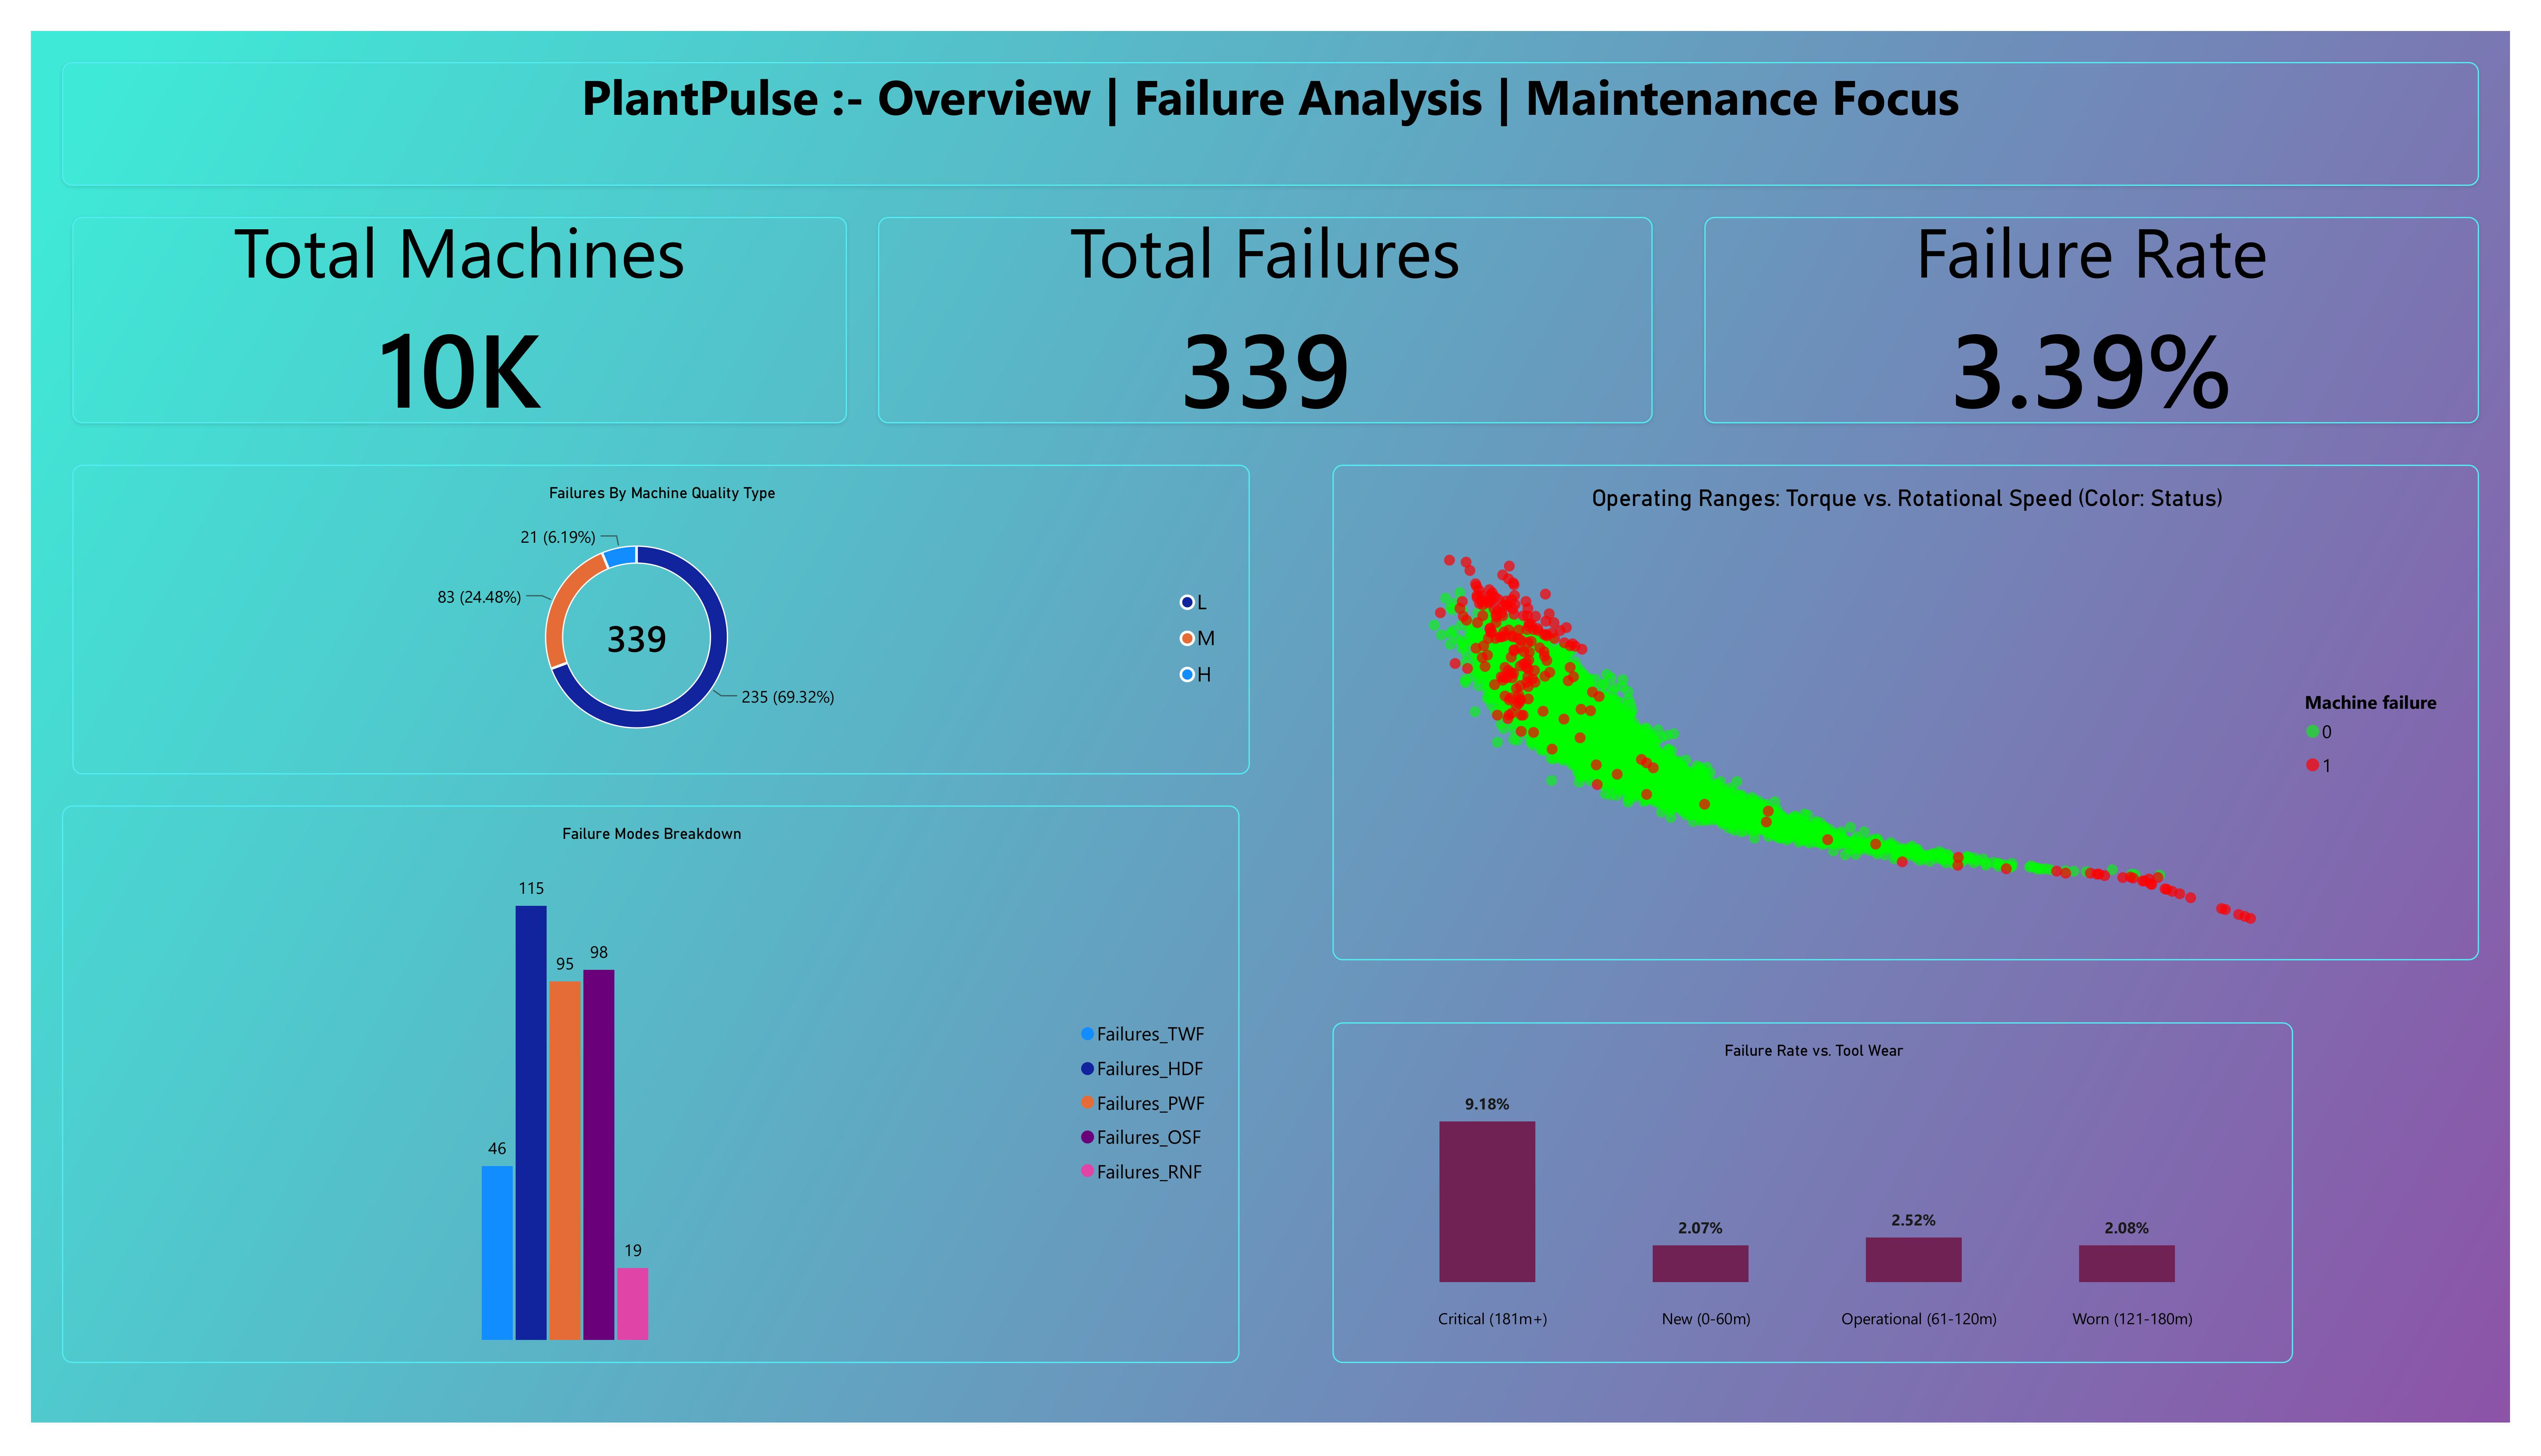

The dashboard page shown, as its layout file describes it:
{"tool":"powerbi","page":{"name":"Page 1","canvas":[1920,1080],"ordinal":0},"visuals":[{"type":"textbox","box":[24,24,1872,96],"z":0},{"type":"cardVisual","fields":{"Data":["_Measures.Total Machines"]},"box":[32,144,600,160],"z":1000},{"type":"cardVisual","fields":{"Data":["_Measures.Total Failures"]},"box":[656,144,600,160],"z":2000},{"type":"cardVisual","fields":{"Data":["_Measures.Failure Rate %"]},"box":[1296,144,600,160],"z":3000},{"type":"donutChart","title":"Failures By Machine Quality Type","fields":{"Category":["plantpulse_processed.Type"],"Y":["_Measures.Total Failures"]},"box":[32,336,912,240],"z":4000},{"type":"clusteredColumnChart","title":"Failure Modes Breakdown","fields":{"Y":["_Measures.Failures_TWF","_Measures.Failures_HDF","_Measures.Failures_PWF","_Measures.Failures_OSF","_Measures.Failures_RNF"]},"box":[24,600,912,432],"z":5000},{"type":"scatterChart","title":"Operating Ranges: Torque vs. Rotational Speed (Color: Status)","fields":{"Series":["plantpulse_processed.Machine failure"],"X":["plantpulse_processed.Rotational speed [rpm]"],"Y":["plantpulse_processed.Torque [Nm]"]},"box":[1008,336,888,384],"z":6000},{"type":"clusteredColumnChart","title":"Failure Rate vs. Tool Wear","fields":{"Category":["plantpulse_processed.Tool_Wear_Bucket","plantpulse_processed.Tool_wear_Bucket_cat"],"Y":["_Measures.Failure Rate"]},"box":[1008,768,744,264],"z":7000}]}

Visuals, with their boxes on the page's 1920x1080 design canvas (x1, y1, x2, y2). These are canvas units, not pixel positions in the 2541x1456 screenshot, which may show the page scaled, cropped or inside an application window:
textbox: (x1=24, y1=24, x2=1896, y2=120)
cardVisual - _Measures.Total Machines: (x1=32, y1=144, x2=632, y2=304)
cardVisual - _Measures.Total Failures: (x1=656, y1=144, x2=1256, y2=304)
cardVisual - _Measures.Failure Rate %: (x1=1296, y1=144, x2=1896, y2=304)
"Failures By Machine Quality Type" donutChart: (x1=32, y1=336, x2=944, y2=576)
"Failure Modes Breakdown" clusteredColumnChart: (x1=24, y1=600, x2=936, y2=1032)
"Operating Ranges: Torque vs. Rotational Speed (Color: Status)" scatterChart: (x1=1008, y1=336, x2=1896, y2=720)
"Failure Rate vs. Tool Wear" clusteredColumnChart: (x1=1008, y1=768, x2=1752, y2=1032)
